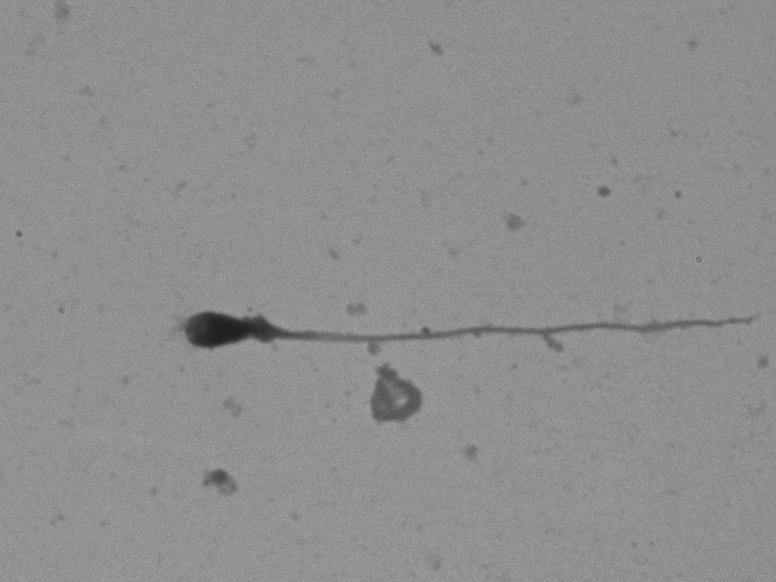Abnormal: (157, 263, 764, 366)
